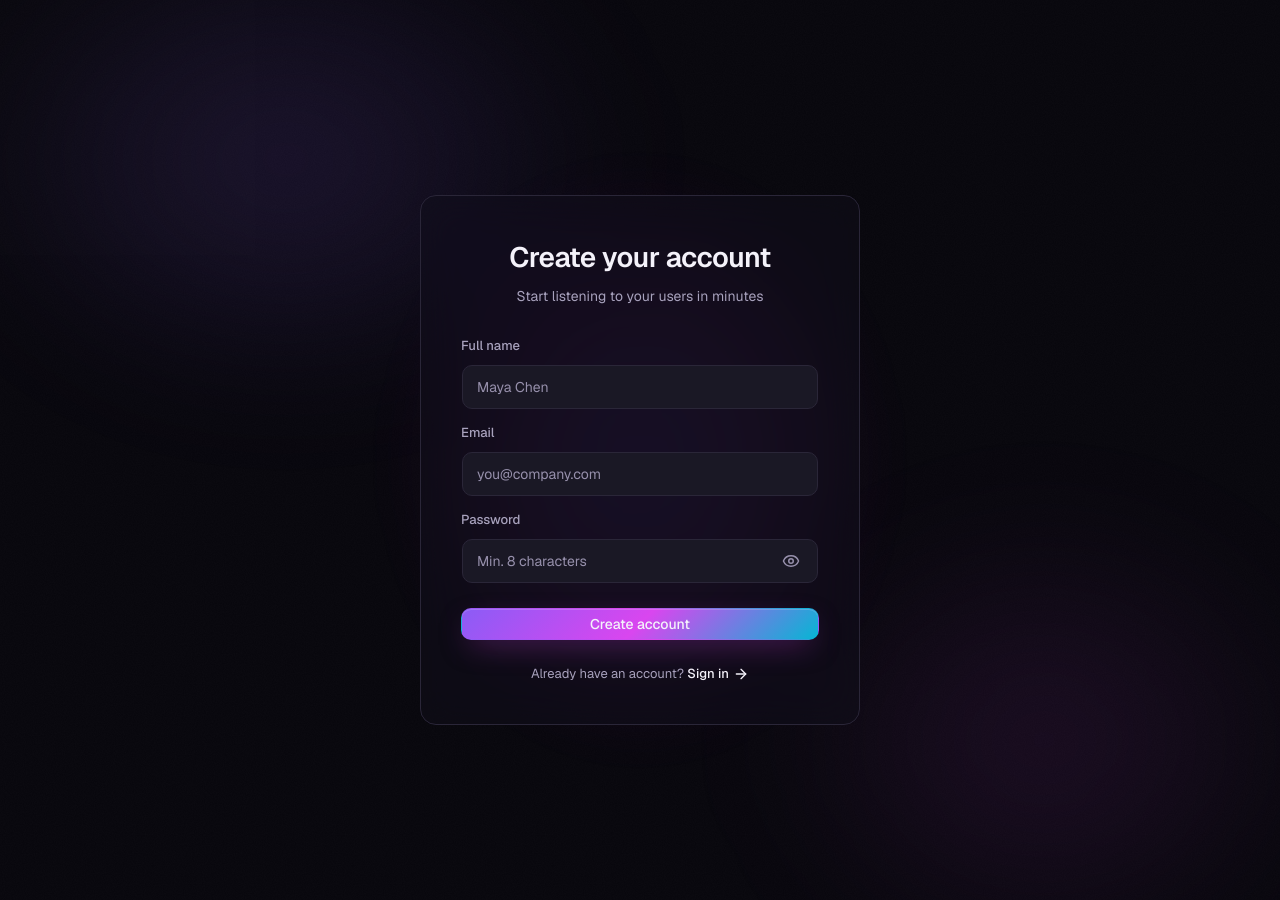
SignupPage — form validation › shows a validation error for an invalid email format
In the field with placeholder "Maya Chen": (640, 387) [462,365,818,409], type "Test User"
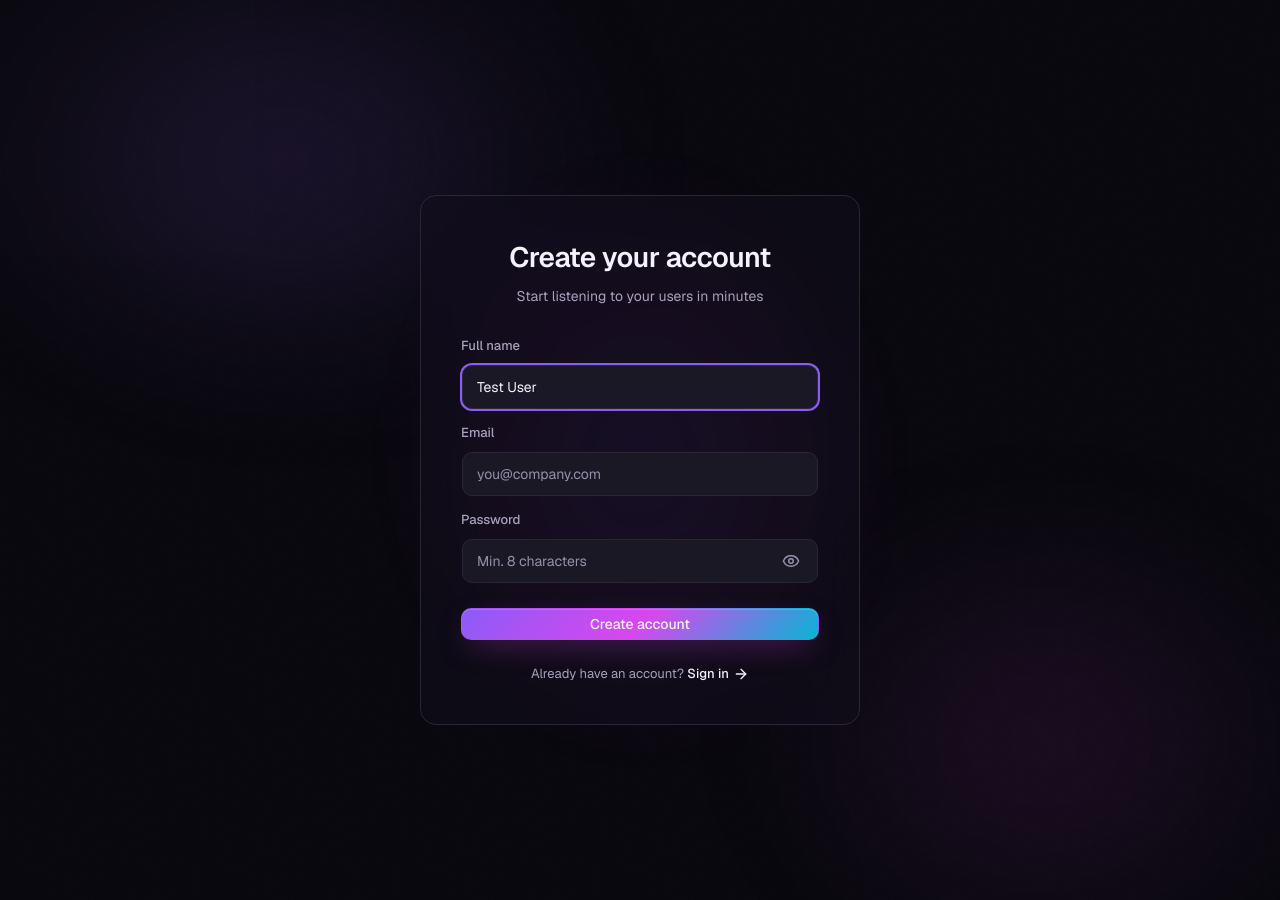
fireEvent.change bypasses jsdom's per-keystroke email-input sanitization
In the field with placeholder "you@company.com": (640, 474) [462,452,818,496], type "not-an-email"
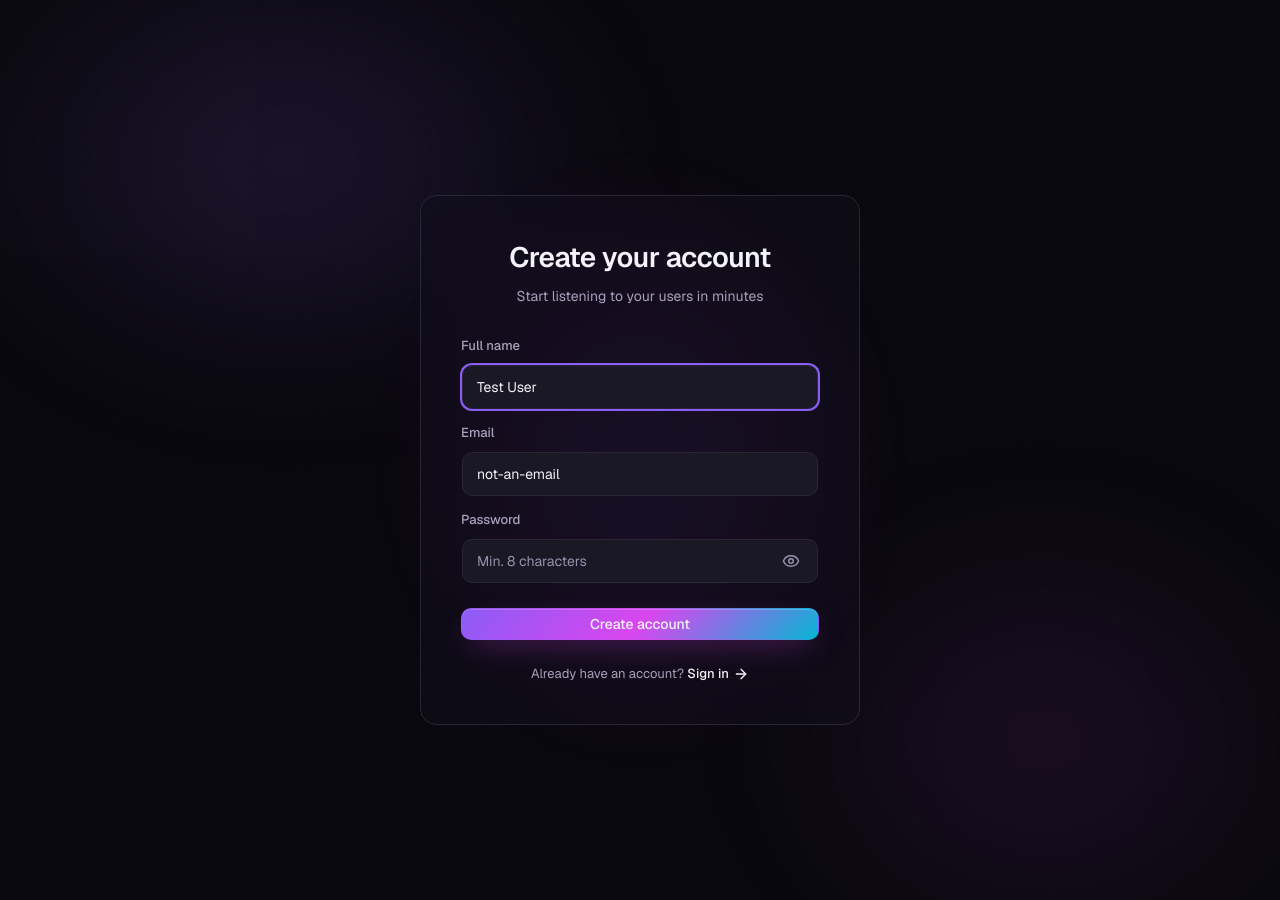
In the password field with placeholder "Min. 8 characters": (640, 561) [462,539,818,583], type "ValidPass1!"
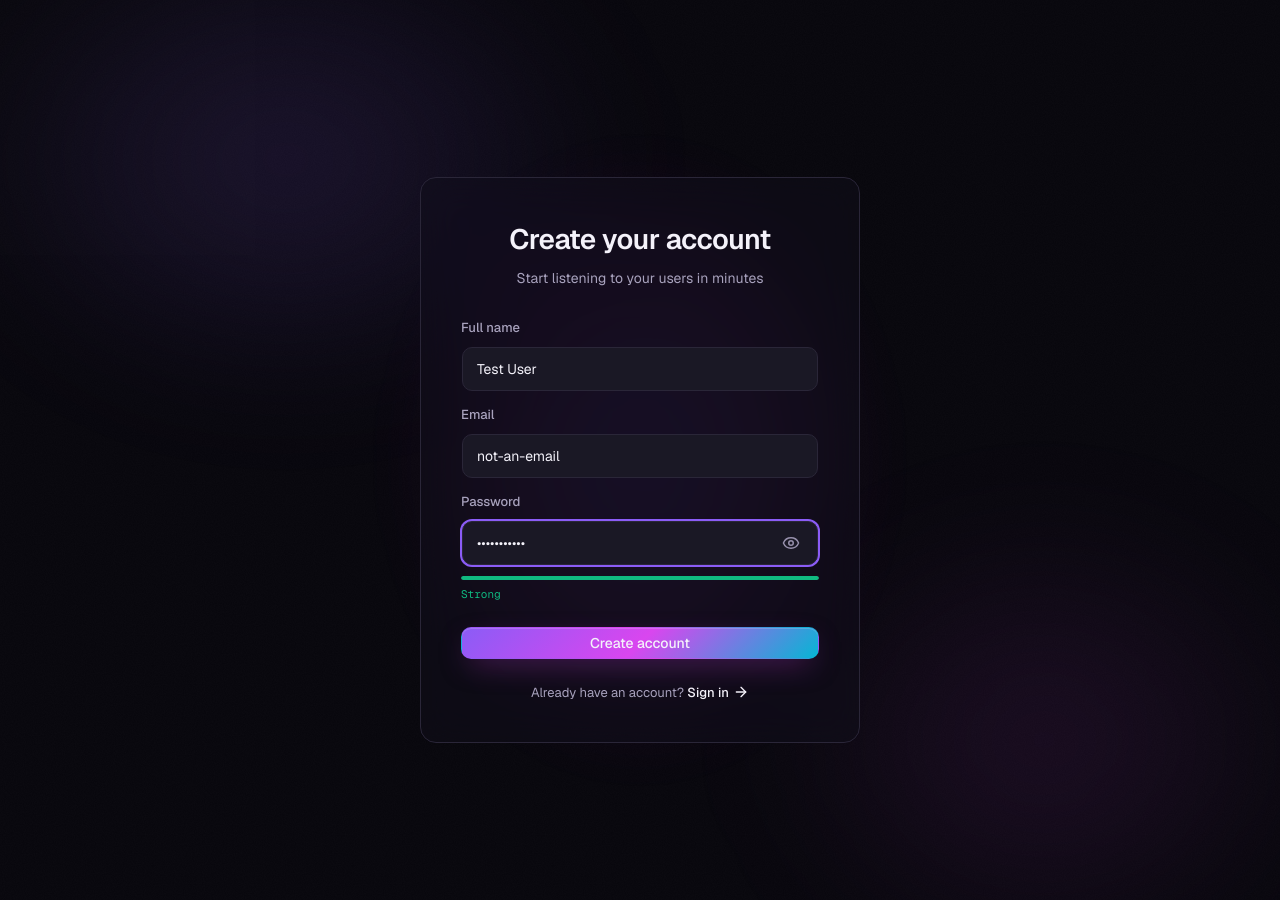
Click the button "Create account": (640, 642) [461,626,819,658]
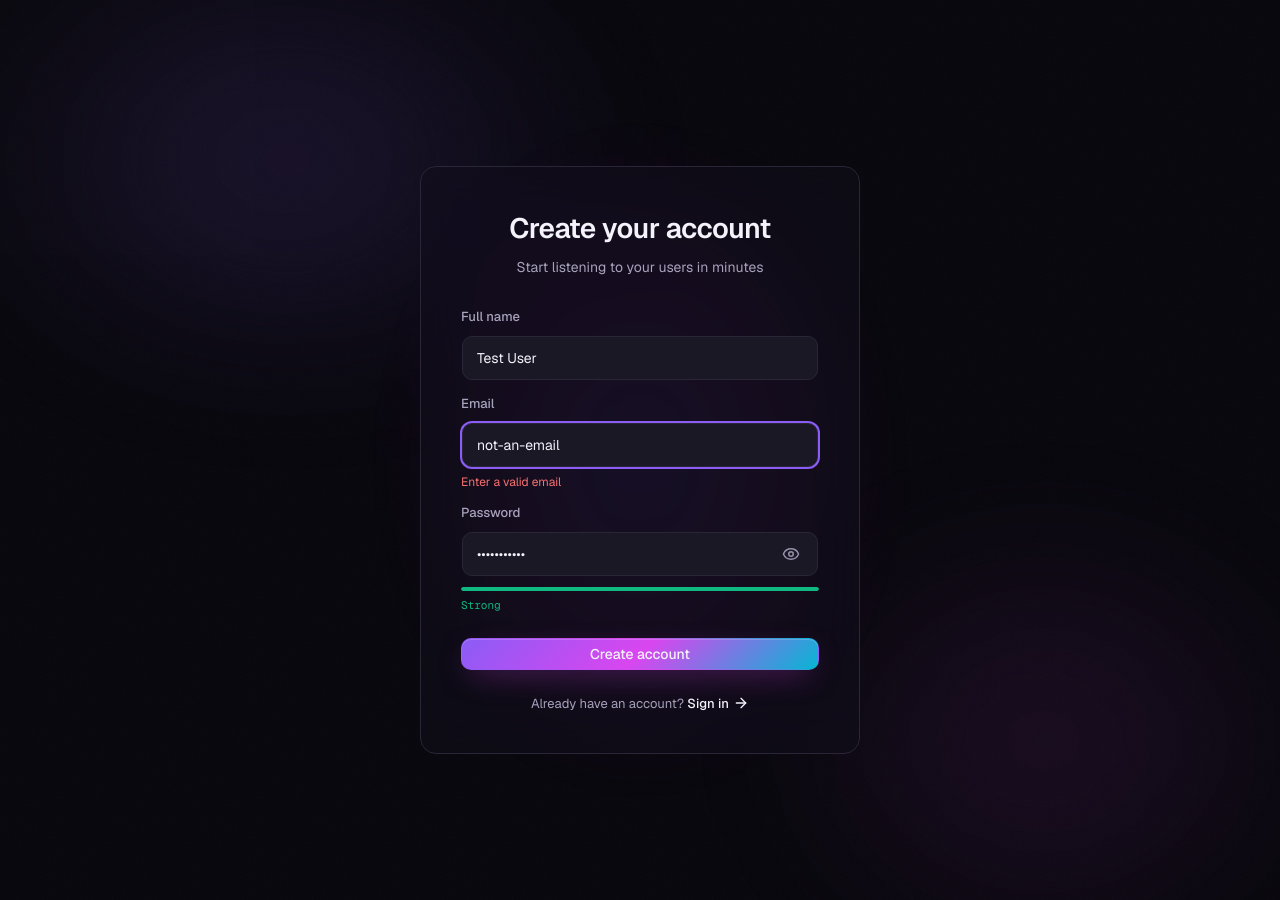
Expected: the text "Enter a valid email" is shown, [461,474,561,490]
